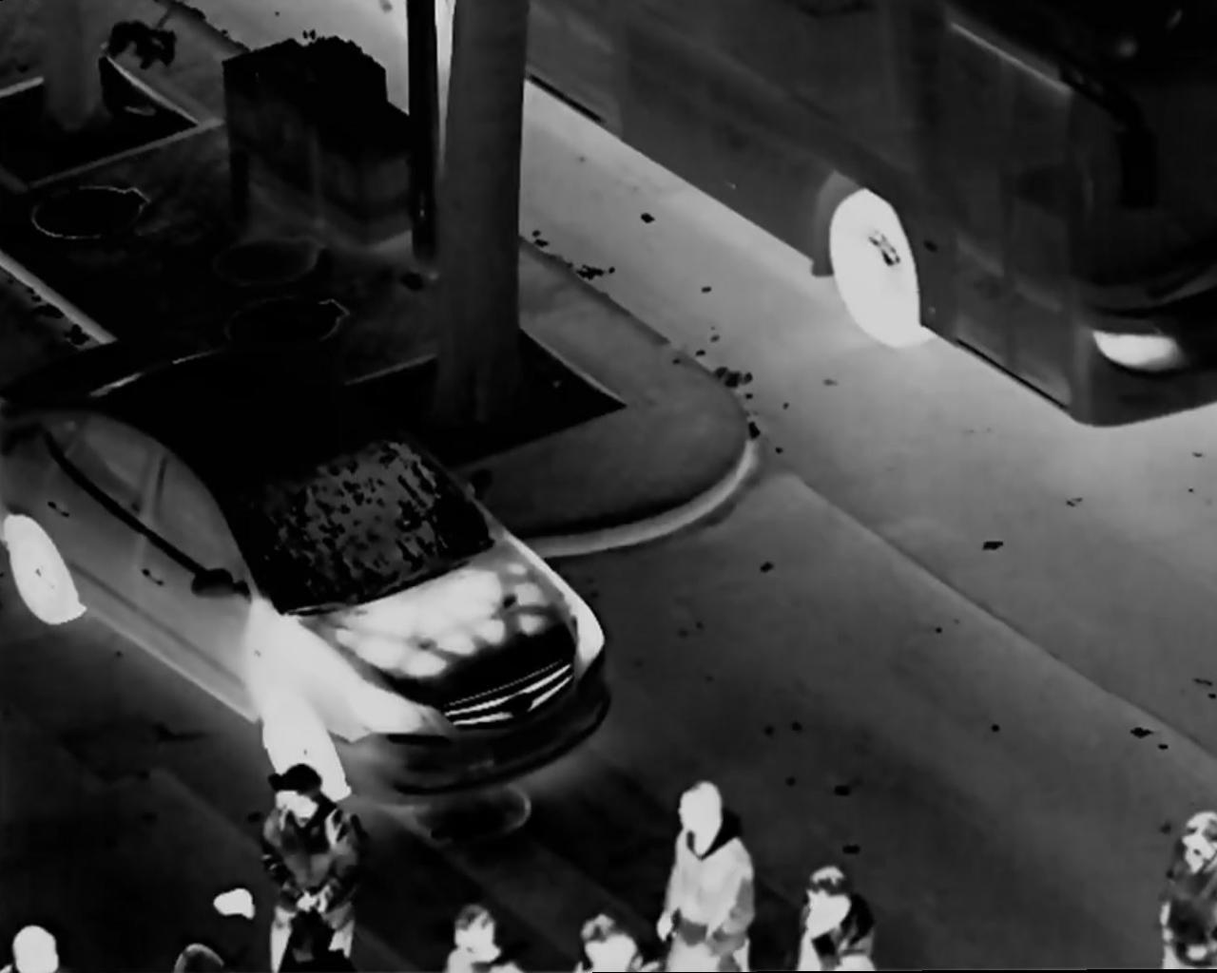person: (259, 754, 381, 968), (668, 776, 769, 973), (794, 865, 883, 973), (427, 890, 531, 973), (1166, 801, 1217, 964), (10, 903, 76, 973), (573, 909, 643, 973)
